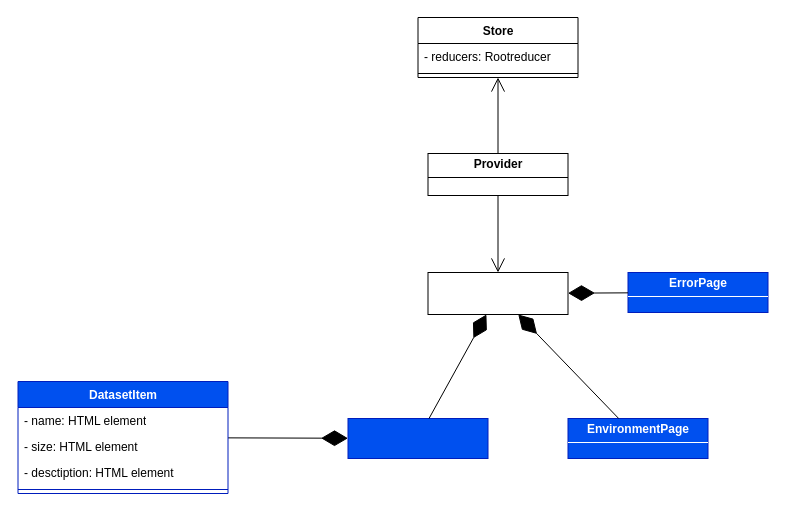
Image size: 785x511. Some labels were removed from this diagram. The centre of each missing label's shape, as x and y in pixels:
"HomePage" goes at (x=417, y=438).
"RouterProvider" goes at (x=497, y=293).
